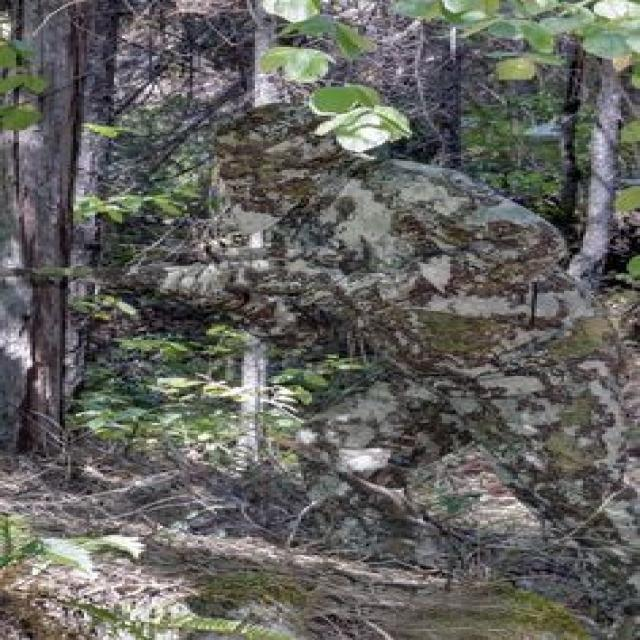Camouflage: (120, 101, 636, 560)
